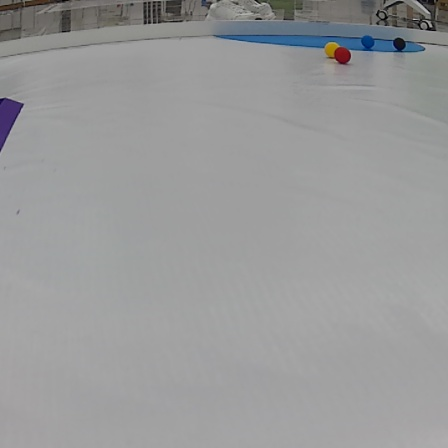black: (392, 36, 407, 51)
blue: (359, 35, 378, 50)
blue_base: (213, 31, 429, 54)
red: (332, 47, 352, 64)
yellow: (321, 40, 339, 59)
